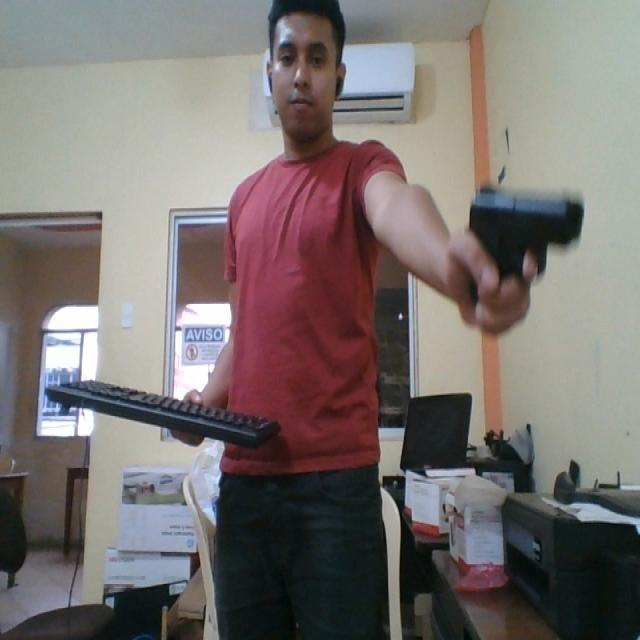weapon: (456, 182, 586, 311)
